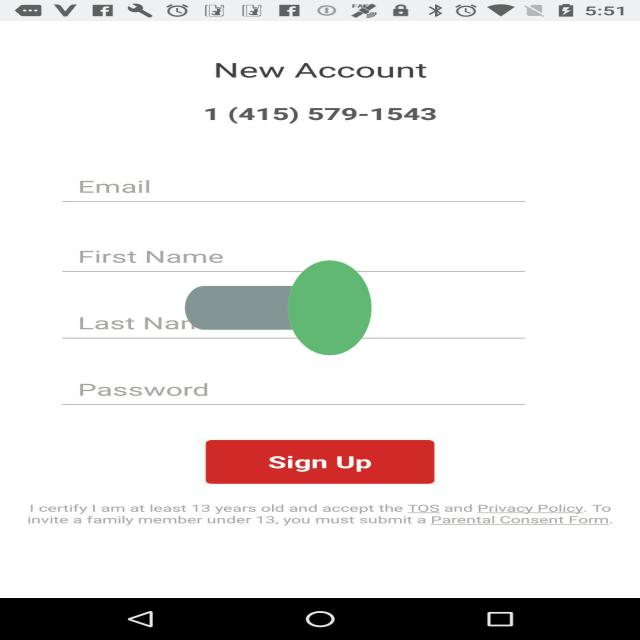social proof: (185, 202, 371, 414)
